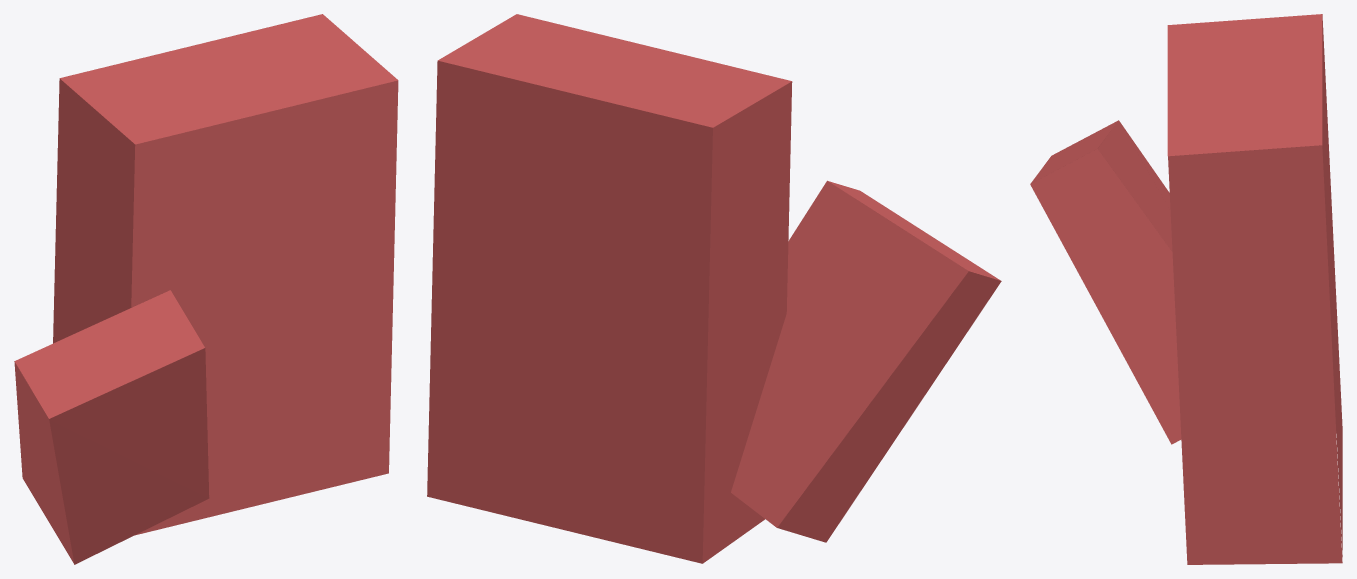
The model's file is iwante_wait_l.glb.
3 views of the same model, side by side, from view 1: azimuth 30°, elevation 25°; view 2: azimuth 150°, elevation 25°; view 3: azimuth 270°, elevation 25° (orthographic). The views are drawn at different scales.
Visible parts, largest first — view 1: iwante_wait_l_col; view 2: iwante_wait_l_col; view 3: iwante_wait_l_col.
Boxes of the visible parts, <box> form: iwante_wait_l_col: <box>14,14,398,564</box>; iwante_wait_l_col: <box>427,14,1001,563</box>; iwante_wait_l_col: <box>1030,14,1342,564</box>.
Bounding box in the file's own units: 4.28 × 4.31 × 2.78.
